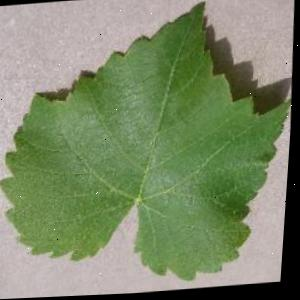Folha: (0, 0, 300, 296)
